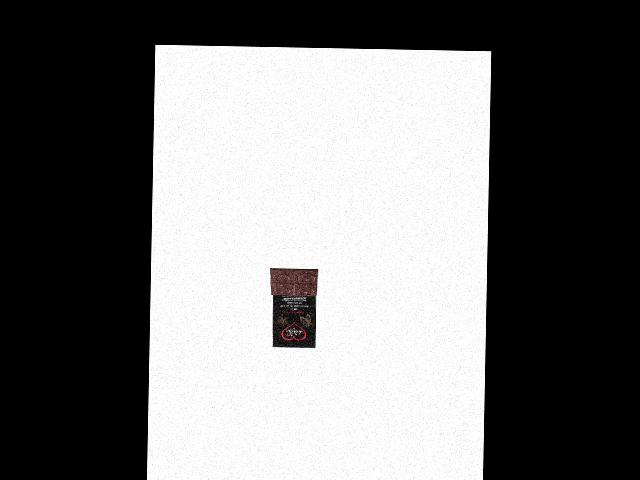chocolate: (264, 264, 319, 348)
